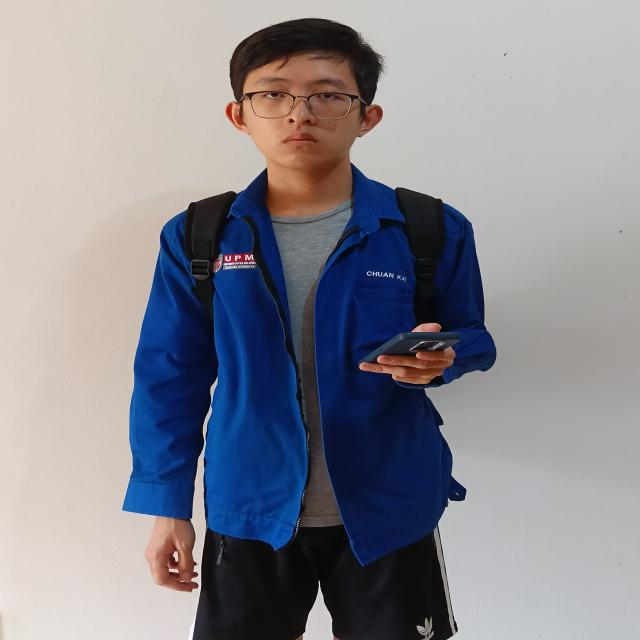person_with_labcoat: (123, 20, 496, 640)
